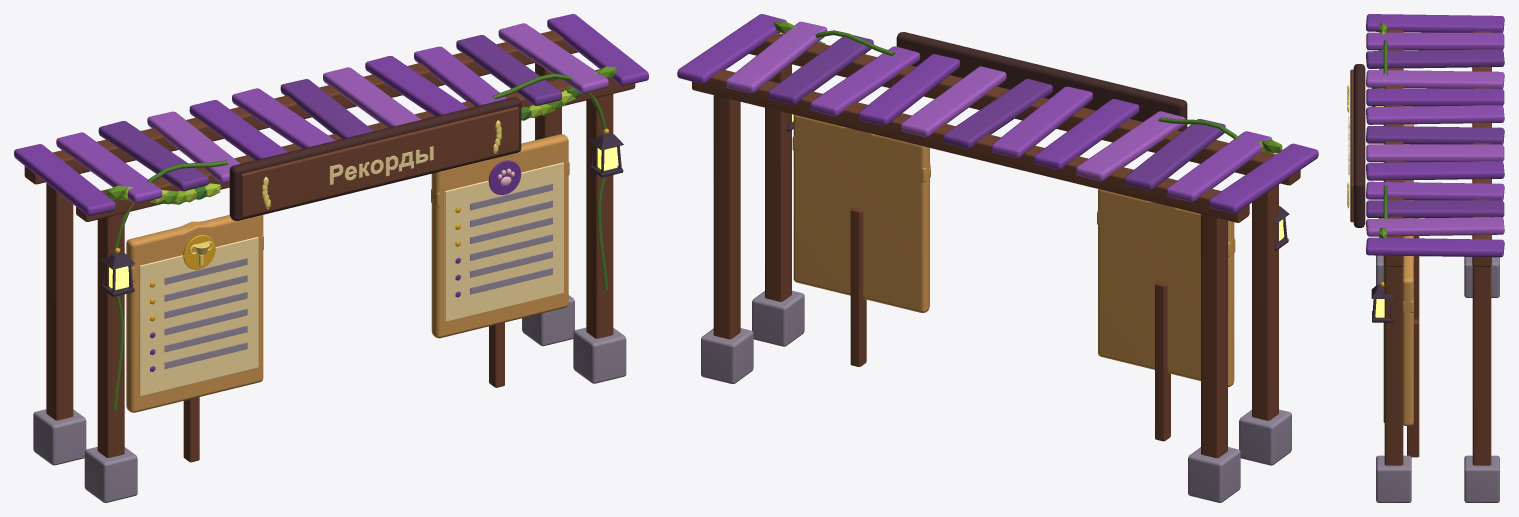
The model's file is Records_Pergola.glb.
3 views of the same model, side by side, from view 1: azimuth 30°, elevation 25°; view 2: azimuth 150°, elevation 25°; view 3: azimuth 270°, elevation 25° (orthographic). The views are drawn at different scales.
Visible parts, largest first — view 1: Records_Pergola__Structure, Records_Pergola__Roof, Records_Pergola__RankingSurface, Records_Pergola__SignFrame, Records_Pergola__Foliage, Records_Pergola__Emblem, Records_Pergola__Fixtures, Records_Pergola__SignText, Records_Pergola__Glow; view 2: Records_Pergola__Structure, Records_Pergola__Roof, Records_Pergola__SignFrame, Records_Pergola__Foliage; view 3: Records_Pergola__Roof, Records_Pergola__Structure, Records_Pergola__SignFrame, Records_Pergola__Foliage, Records_Pergola__Fixtures.
Part boxes in pixels (left/top/right/bottom): Records_Pergola__Structure: left=24, top=30, right=635, bottom=502; Records_Pergola__Roof: left=14, top=14, right=648, bottom=215; Records_Pergola__RankingSurface: left=139, top=162, right=563, bottom=396; Records_Pergola__SignFrame: left=229, top=97, right=521, bottom=220; Records_Pergola__Foliage: left=107, top=66, right=616, bottom=410; Records_Pergola__Emblem: left=183, top=120, right=521, bottom=269; Records_Pergola__Fixtures: left=100, top=128, right=623, bottom=296; Records_Pergola__SignText: left=329, top=146, right=433, bottom=184; Records_Pergola__Glow: left=109, top=147, right=617, bottom=289; Records_Pergola__Structure: left=692, top=33, right=1300, bottom=502; Records_Pergola__Roof: left=677, top=14, right=1318, bottom=213; Records_Pergola__SignFrame: left=896, top=32, right=1187, bottom=131; Records_Pergola__Foliage: left=774, top=21, right=1282, bottom=153; Records_Pergola__Roof: left=1366, top=14, right=1504, bottom=257; Records_Pergola__Structure: left=1376, top=29, right=1499, bottom=502; Records_Pergola__SignFrame: left=1350, top=64, right=1365, bottom=227; Records_Pergola__Foliage: left=1378, top=23, right=1387, bottom=422; Records_Pergola__Fixtures: left=1371, top=87, right=1394, bottom=322.
Bounding box in the file's own units: 20.39 × 10.88 × 5.7.
